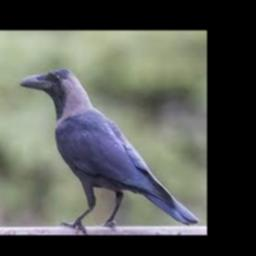Crow: (21, 68, 200, 233)
